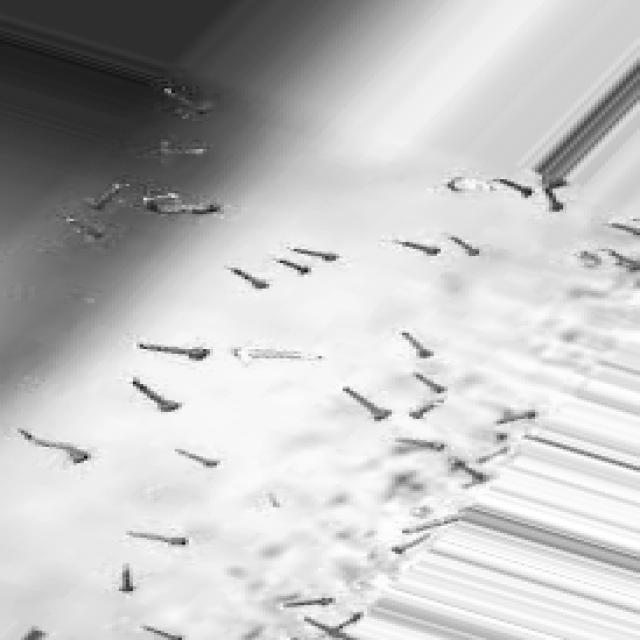larvas: (29, 428, 88, 464), (342, 388, 391, 418), (64, 210, 105, 242), (136, 342, 208, 360), (133, 383, 177, 412), (150, 200, 221, 217), (401, 516, 462, 534), (172, 86, 206, 115), (88, 182, 125, 207), (153, 142, 209, 157), (302, 620, 344, 640), (130, 532, 188, 546), (179, 448, 219, 468), (388, 536, 428, 556), (607, 249, 640, 272), (232, 267, 267, 288), (390, 239, 442, 253), (547, 182, 569, 214), (404, 332, 432, 357), (414, 372, 442, 397), (498, 406, 536, 424), (450, 459, 484, 479), (282, 256, 314, 276), (502, 177, 534, 196), (402, 435, 442, 450), (291, 249, 339, 261), (454, 236, 480, 256), (477, 445, 507, 462), (147, 626, 183, 640), (605, 218, 640, 232), (333, 611, 363, 627), (120, 565, 136, 593), (411, 401, 436, 418), (284, 599, 334, 606), (456, 482, 487, 491)
